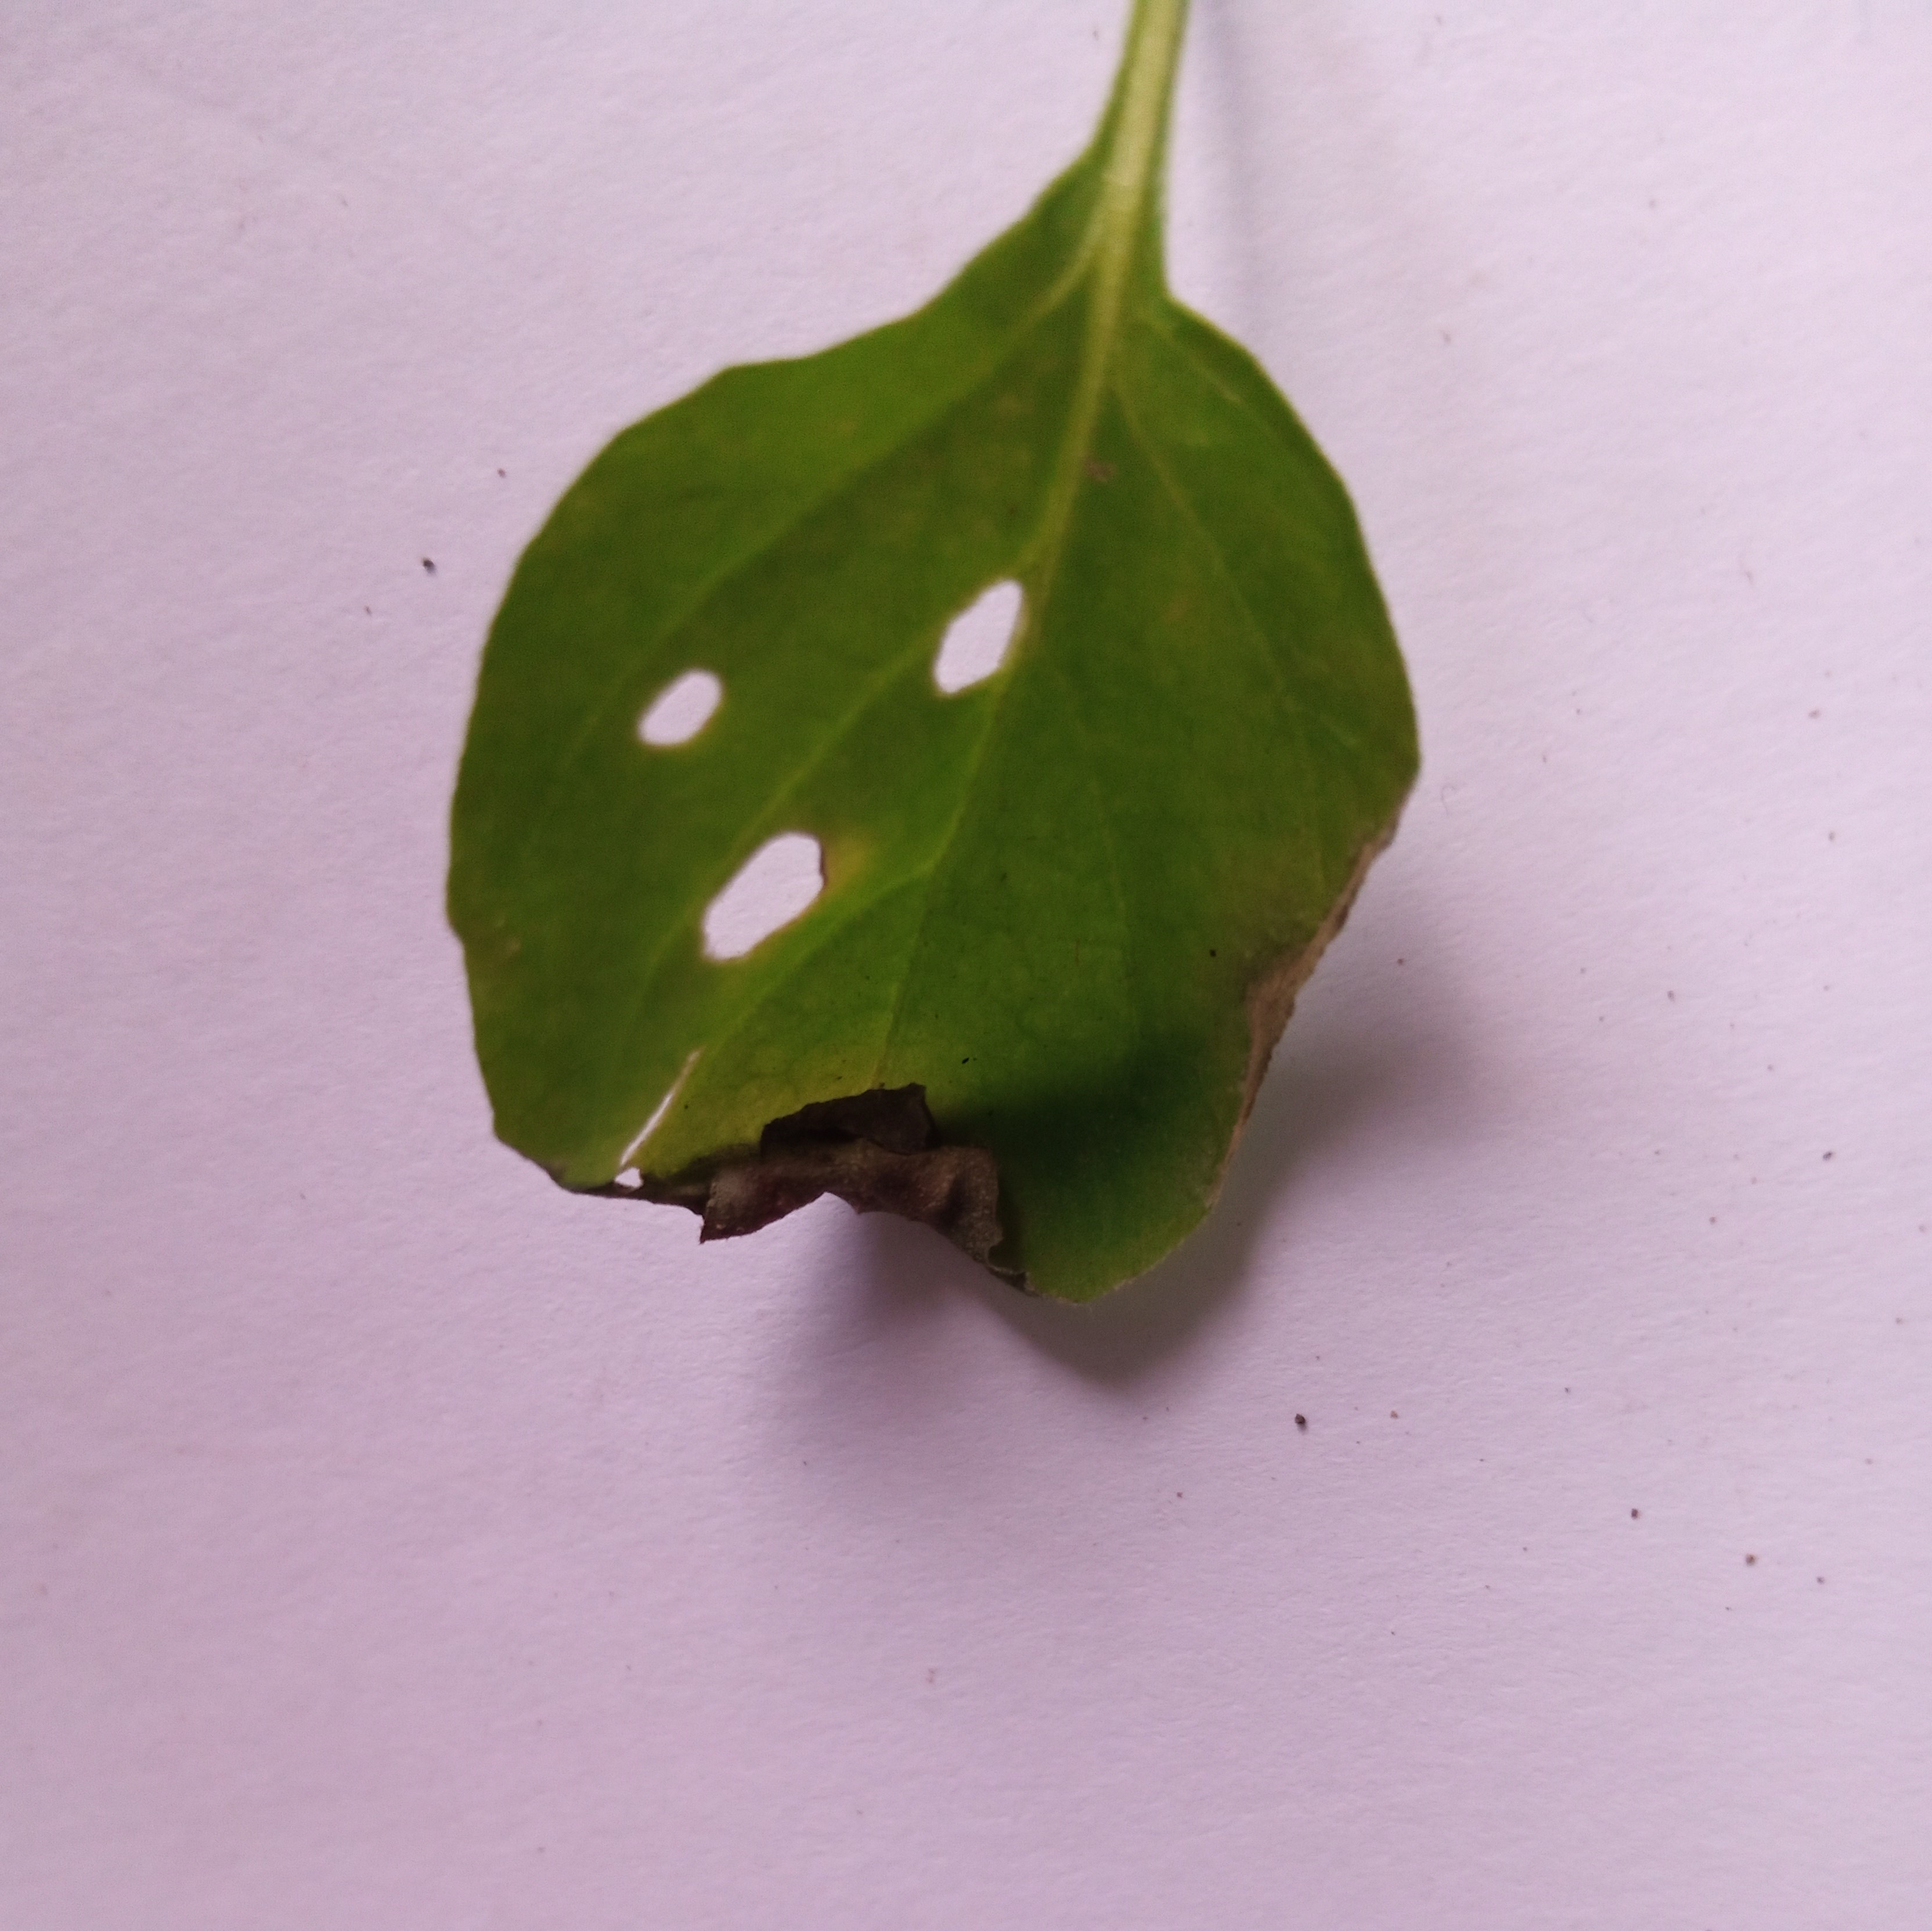Leaf: (340, 95, 1644, 1473)
